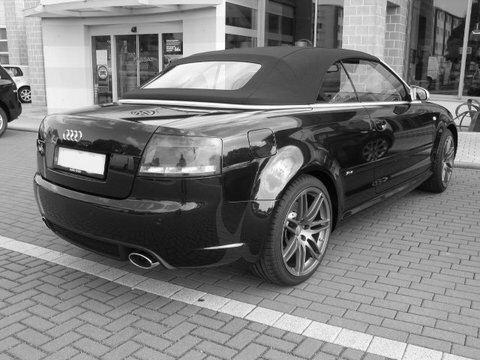car: (33, 48, 458, 289)
